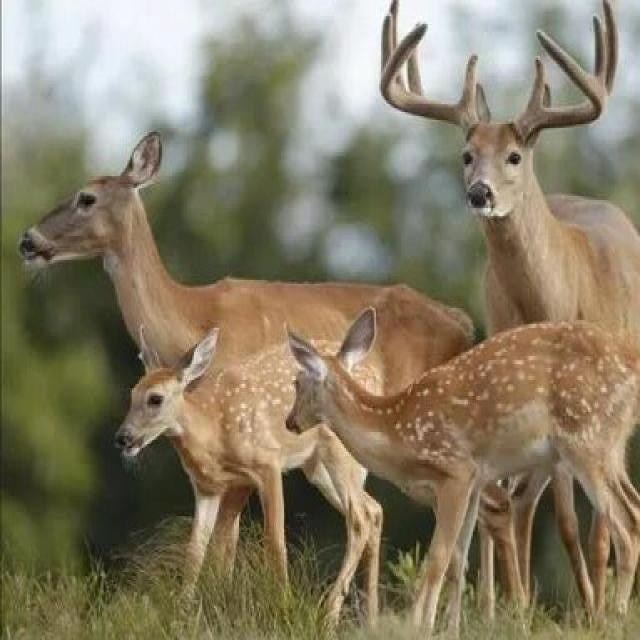deer: (365, 0, 640, 411), (284, 290, 640, 571), (32, 153, 410, 407), (116, 328, 430, 596)
